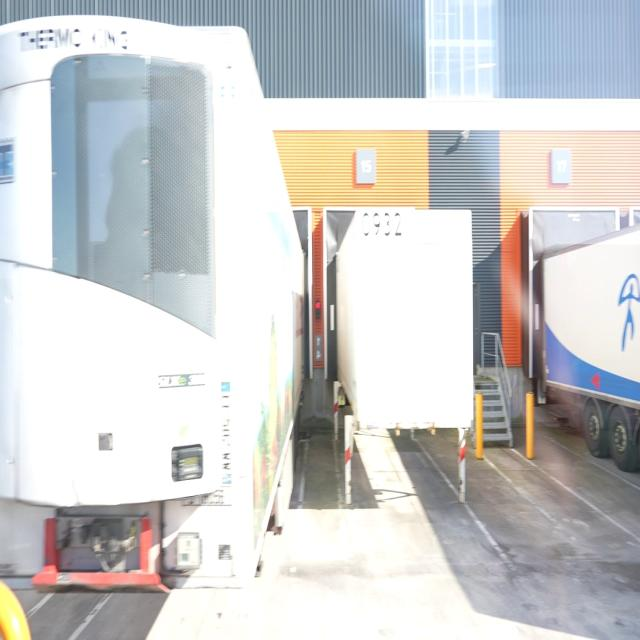Code: (358, 207, 404, 245)
